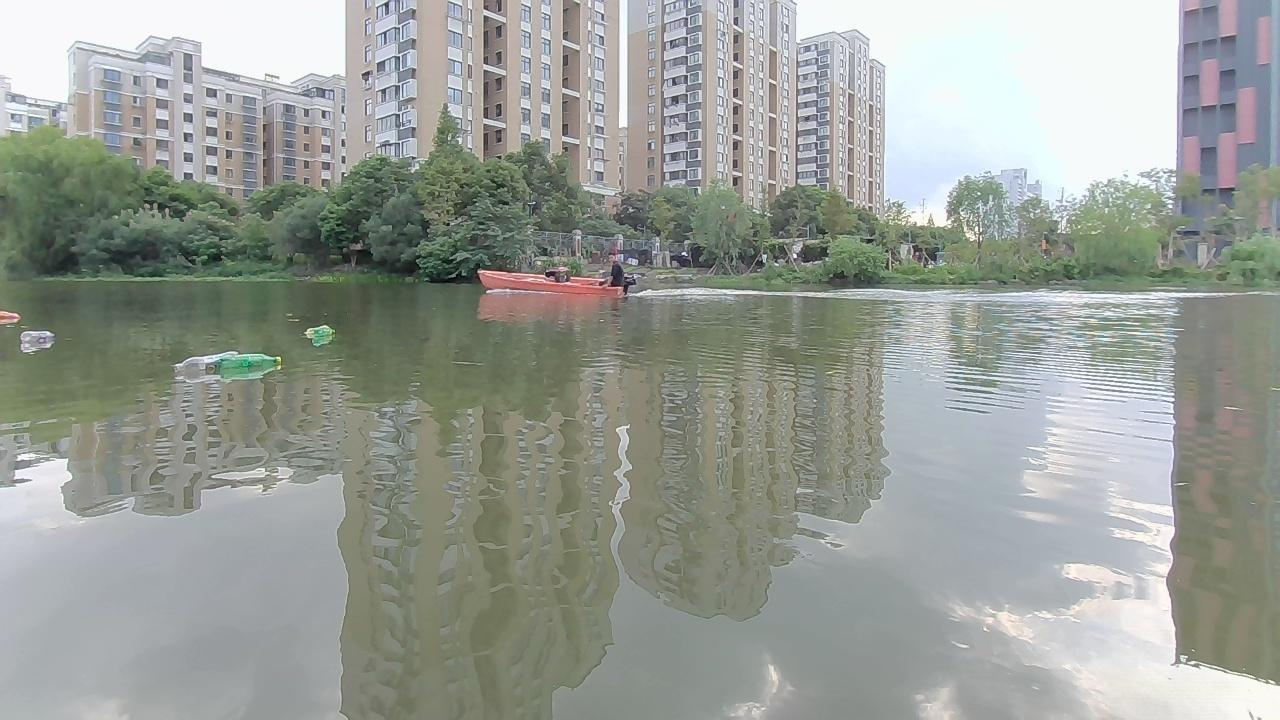bottle: (172, 350, 249, 381), (220, 350, 279, 380), (17, 331, 57, 348), (304, 322, 335, 342), (0, 310, 24, 322)
